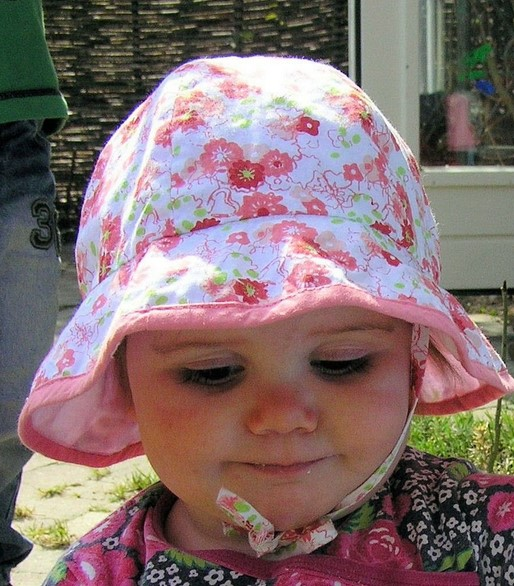face_no_mask: (106, 178, 420, 539)
